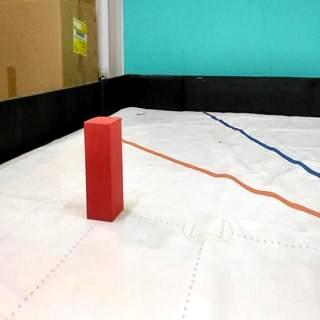redbox: (82, 114, 124, 223)
